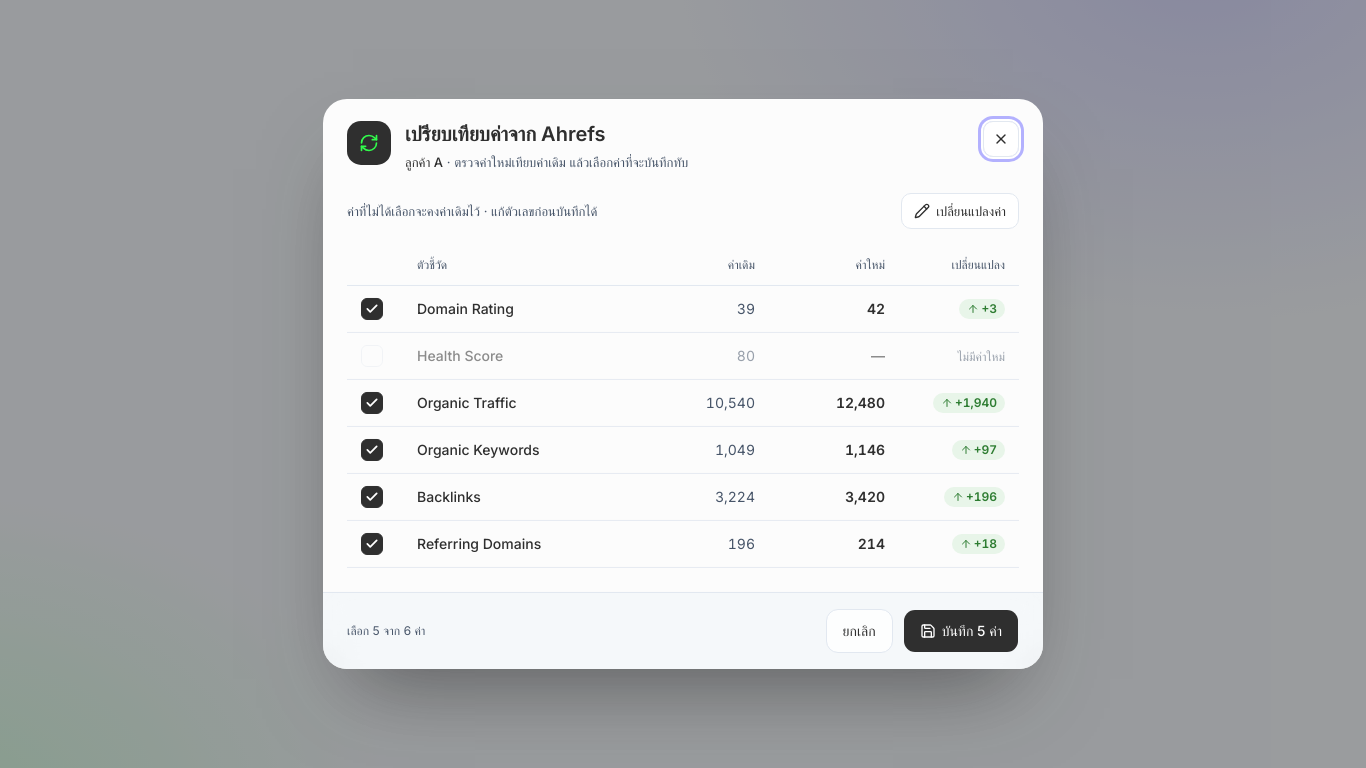
Scenario: AhrefsSyncReviewDialog › บันทึกไม่สำเร็จ = คง dialog ไว้พร้อมบอกให้ลองใหม่
Click the button "บันทึก 5 ค่า": (961, 631) [903,609,1019,653]
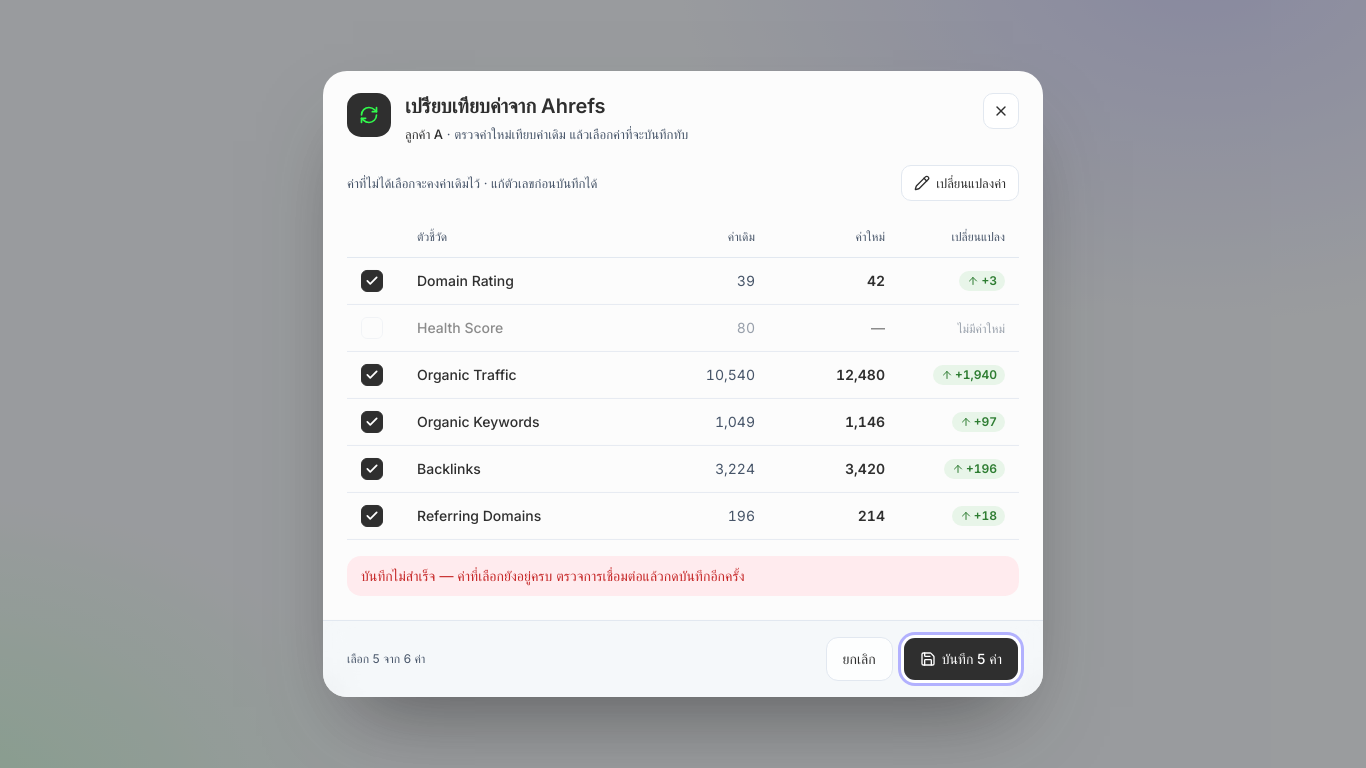
Expected: the message shows "บันทึกไม่สำเร็จ", [361,567,744,584]
